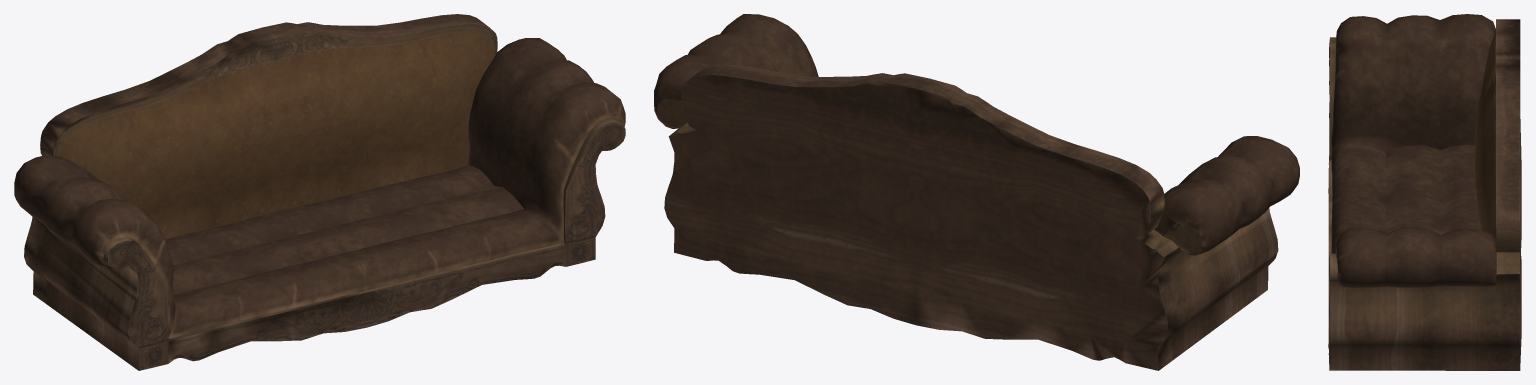
Rendered from sofa_03_phys.fbx.
3 views of the same model, side by side, from view 1: azimuth 30°, elevation 25°; view 2: azimuth 150°, elevation 25°; view 3: azimuth 270°, elevation 25° (orthographic). The views are drawn at different scales.
Visible parts, largest first — view 1: sofa_03.004, sofa_03.002, sofa_03.003; view 2: sofa_03.004, sofa_03.003; view 3: sofa_03.003, sofa_03.002, sofa_03.004.
Boxes of the visible parts, left/top/right/bottom form: sofa_03.004: left=24, top=14, right=497, bottom=303; sofa_03.002: left=165, top=165, right=566, bottom=363; sofa_03.003: left=14, top=38, right=625, bottom=370; sofa_03.004: left=664, top=64, right=1181, bottom=370; sofa_03.003: left=654, top=14, right=1299, bottom=360; sofa_03.003: left=1328, top=14, right=1496, bottom=370; sofa_03.002: left=1328, top=143, right=1480, bottom=348; sofa_03.004: left=1475, top=19, right=1521, bottom=370.
Bounding box in the file's own units: 108 × 36.42 × 42.48.
